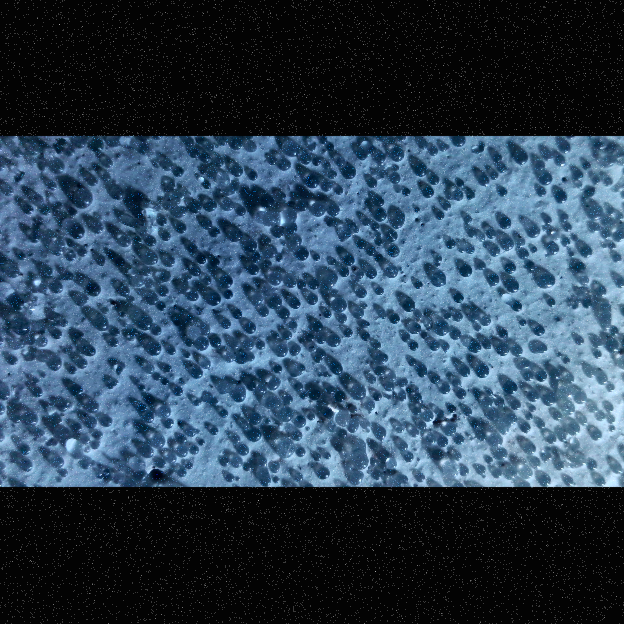GrassBeadSeg: (21, 181, 595, 431), (93, 165, 591, 440), (30, 147, 553, 398), (89, 140, 538, 410), (18, 175, 442, 455), (32, 187, 435, 480), (21, 164, 429, 445), (100, 178, 556, 427), (83, 154, 504, 422), (176, 153, 519, 478), (247, 135, 603, 441), (0, 150, 331, 470), (91, 187, 545, 394), (82, 311, 621, 485), (20, 190, 354, 470), (242, 201, 587, 471), (293, 196, 621, 476), (70, 161, 405, 432), (219, 157, 508, 467), (286, 178, 613, 450), (151, 135, 399, 478), (52, 166, 421, 388), (81, 191, 568, 357), (203, 139, 581, 349), (49, 146, 569, 294), (71, 168, 369, 426), (230, 175, 491, 468), (19, 252, 368, 465), (58, 278, 580, 418), (157, 187, 509, 394), (231, 255, 613, 443), (249, 188, 549, 425), (277, 162, 592, 387), (257, 135, 583, 348), (36, 159, 292, 428), (329, 170, 554, 461), (13, 275, 589, 386), (109, 172, 491, 337), (116, 239, 593, 366), (358, 156, 563, 436), (329, 143, 571, 375), (278, 246, 594, 422), (218, 297, 554, 462), (245, 141, 601, 295), (155, 307, 583, 435), (234, 201, 448, 456), (325, 155, 551, 395), (394, 151, 555, 483), (229, 165, 428, 430), (357, 214, 570, 457), (266, 156, 450, 436), (315, 152, 529, 392), (23, 286, 385, 426), (23, 204, 260, 416), (74, 288, 365, 458), (369, 164, 596, 379), (135, 220, 380, 414), (157, 173, 530, 295), (84, 301, 333, 476), (70, 226, 251, 456), (334, 185, 592, 342), (97, 236, 410, 365), (107, 142, 302, 347), (93, 253, 321, 412), (46, 254, 357, 370), (295, 191, 477, 384), (28, 145, 342, 254), (57, 369, 374, 475), (278, 152, 387, 458), (287, 238, 573, 353), (282, 146, 452, 338), (176, 219, 312, 456), (289, 326, 621, 421), (218, 228, 501, 339), (455, 171, 570, 437), (118, 235, 263, 442), (331, 363, 564, 483), (264, 178, 613, 258), (387, 234, 604, 359), (70, 330, 419, 404), (90, 143, 373, 233), (185, 367, 427, 469), (306, 239, 456, 400), (244, 264, 512, 354), (228, 234, 607, 297), (229, 140, 363, 315), (249, 229, 587, 298), (144, 230, 245, 457), (250, 253, 484, 348), (107, 248, 342, 342), (49, 287, 169, 470), (315, 335, 616, 402), (64, 202, 269, 300), (289, 157, 377, 384), (68, 338, 605, 375), (269, 202, 529, 277), (50, 227, 222, 340), (423, 278, 621, 373), (16, 241, 286, 309), (421, 261, 536, 419), (145, 337, 329, 433), (136, 224, 298, 330), (16, 196, 276, 261), (272, 135, 407, 257), (436, 238, 513, 447), (47, 335, 460, 373), (265, 295, 353, 473), (143, 271, 266, 393), (373, 279, 520, 375), (163, 135, 547, 171), (71, 295, 222, 386), (428, 229, 541, 349), (354, 289, 525, 362), (149, 296, 456, 336), (232, 369, 598, 401), (0, 259, 134, 345), (4, 435, 240, 482), (148, 292, 219, 448), (530, 219, 610, 357), (332, 142, 447, 237), (454, 374, 610, 444), (419, 140, 594, 200), (454, 139, 518, 303), (1, 350, 100, 448), (85, 297, 143, 452), (199, 382, 303, 466), (474, 274, 557, 378), (205, 156, 319, 225), (304, 140, 465, 188), (512, 174, 554, 356), (328, 246, 401, 348), (4, 140, 139, 195), (441, 319, 541, 391), (289, 297, 421, 351), (88, 226, 159, 323), (292, 175, 319, 428), (270, 203, 452, 239), (40, 177, 124, 254), (292, 437, 438, 481), (374, 366, 523, 409), (6, 139, 86, 219), (85, 387, 235, 428), (146, 324, 211, 416), (136, 183, 237, 242), (258, 281, 332, 357), (70, 385, 155, 451), (34, 332, 373, 348), (436, 211, 521, 273), (436, 235, 489, 330), (454, 241, 515, 321), (165, 136, 230, 209), (91, 139, 194, 185), (310, 414, 397, 468), (465, 365, 547, 419), (497, 344, 603, 385), (449, 392, 554, 432), (498, 216, 609, 253), (311, 269, 376, 332), (135, 200, 228, 243), (137, 427, 211, 479), (9, 305, 74, 364), (579, 144, 623, 229), (330, 240, 382, 308), (225, 463, 378, 485), (487, 433, 551, 485), (79, 251, 154, 295), (362, 302, 451, 338), (551, 324, 605, 382), (567, 404, 615, 468), (543, 207, 603, 258), (428, 145, 566, 167), (372, 452, 470, 481), (493, 435, 556, 478), (474, 187, 506, 271), (358, 151, 400, 214), (302, 137, 386, 168), (292, 374, 321, 461), (306, 421, 370, 458), (472, 413, 545, 444), (483, 229, 501, 354), (560, 403, 604, 448), (282, 353, 325, 399), (351, 391, 401, 428), (414, 384, 466, 419), (348, 423, 386, 469), (142, 364, 172, 422), (324, 248, 375, 282), (529, 373, 572, 413), (309, 399, 375, 425), (431, 247, 475, 286), (242, 239, 260, 334), (532, 460, 597, 485), (153, 148, 211, 176), (175, 318, 231, 347), (570, 227, 623, 257), (466, 433, 501, 478), (336, 316, 492, 326), (298, 334, 332, 377), (371, 221, 382, 350), (185, 254, 219, 293), (133, 255, 175, 286), (188, 293, 209, 349), (390, 314, 475, 327), (396, 394, 425, 432), (522, 327, 548, 366), (340, 448, 386, 470), (260, 273, 283, 316), (265, 218, 283, 267), (100, 468, 146, 483), (290, 278, 335, 289), (411, 341, 439, 350), (352, 471, 364, 484), (19, 466, 31, 472), (342, 328, 350, 337)
